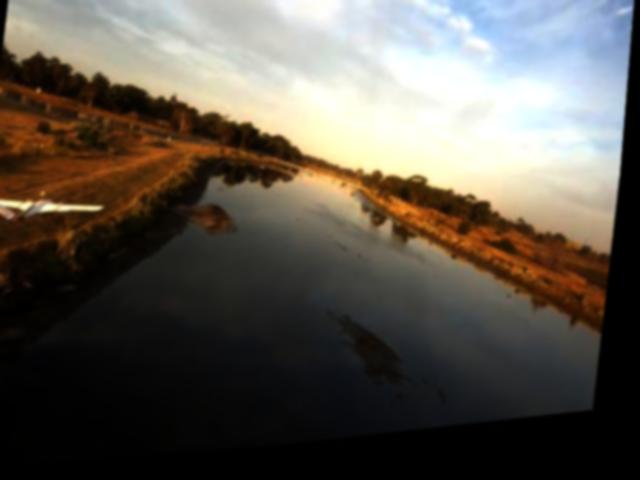uav: (0, 184, 111, 237)
